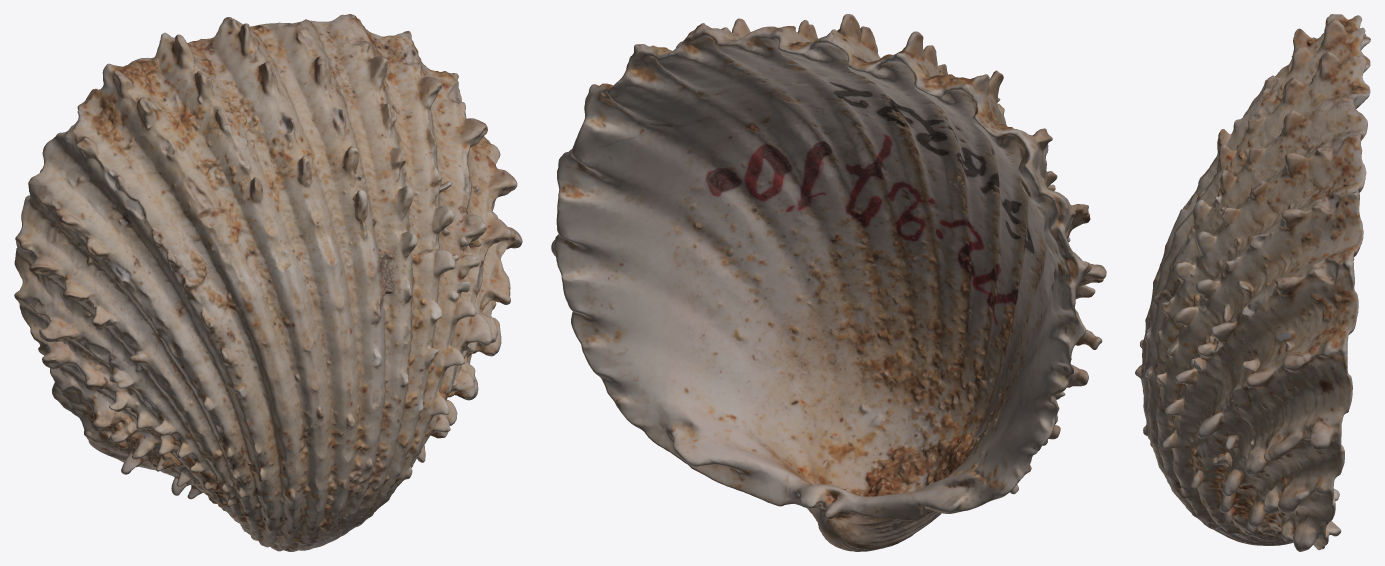
The model's file is EWS0014077.glb.
3 renders of one model, left to right at view 1: azimuth 30°, elevation 25°; view 2: azimuth 150°, elevation 25°; view 3: azimuth 270°, elevation 25°, orthographic. The views are drawn at different scales.
Visible parts, largest first — view 1: input; view 2: input; view 3: input.
Part boxes in pixels (x1,y1,x2,y2): input: [14, 14, 522, 551]; input: [551, 14, 1106, 551]; input: [1135, 14, 1370, 551].
Size of the model in its own units: 0.0215 by 0.0209 by 0.00921.
1 material, 1 textured.
